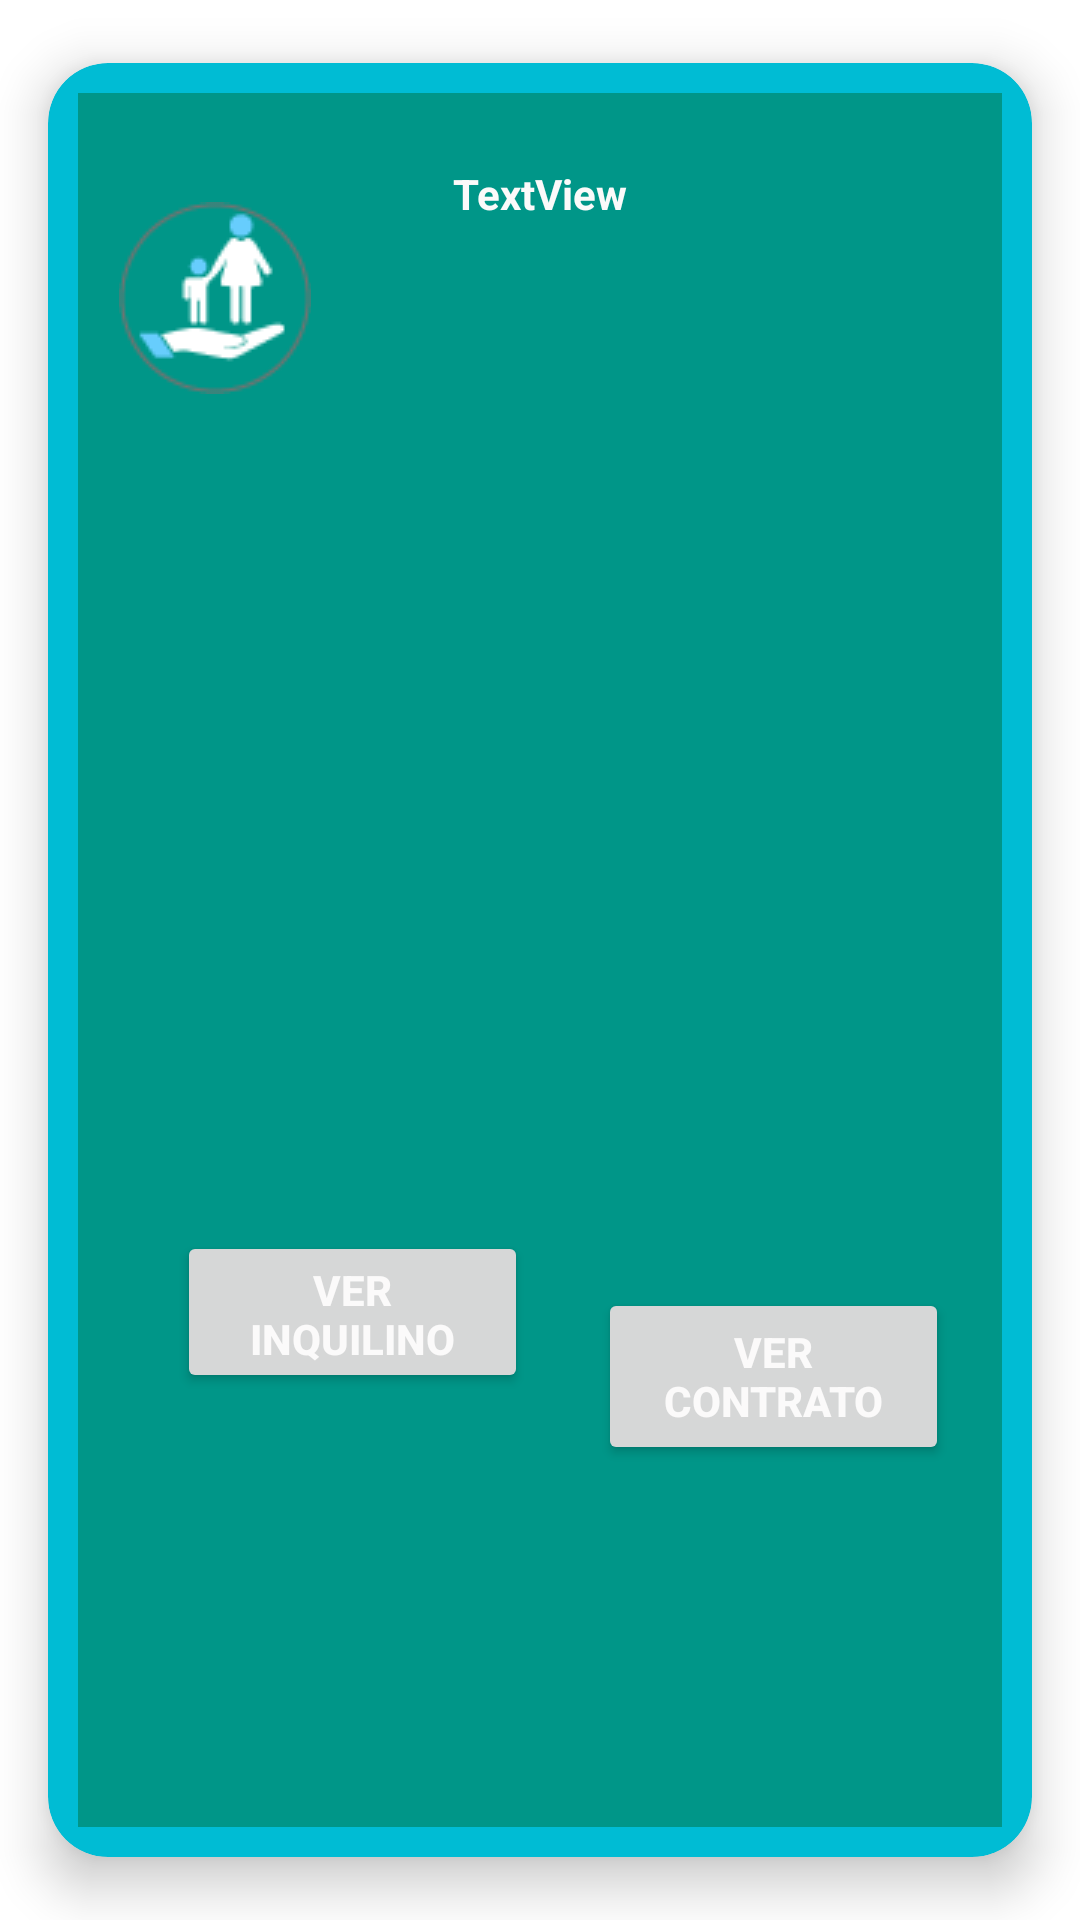

Where to tap for icons on this 1080x1920 app screen, as point (x, y):
inquilinos: point (215, 298)
